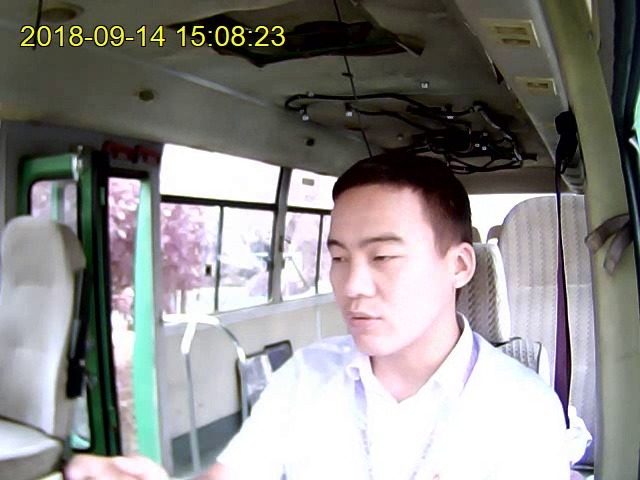closed_mouth: (346, 307, 382, 331)
